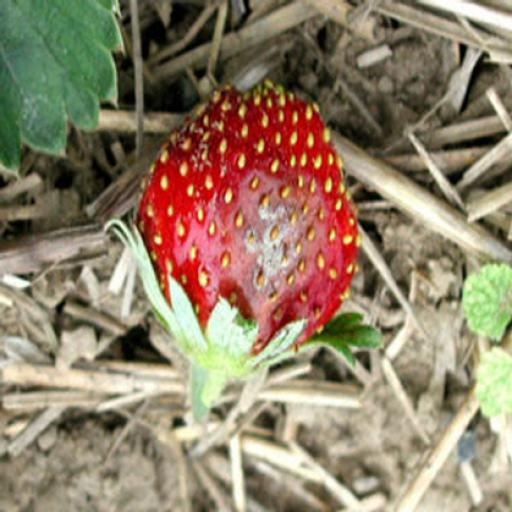Gray Mold: (172, 157, 310, 346)
